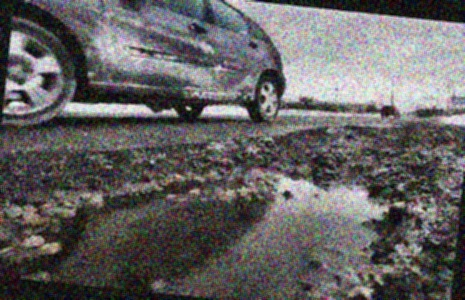pothole: (0, 81, 465, 300)
